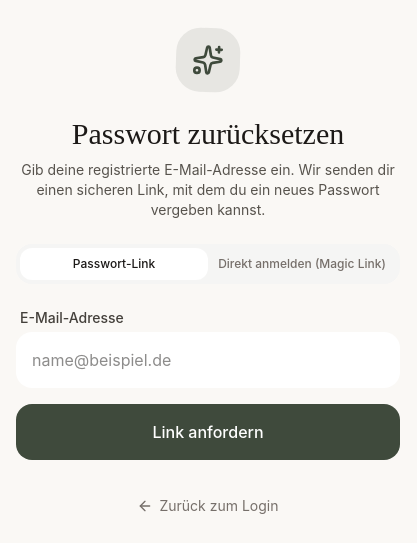
ForgotPasswordForm › shows inline validation error when submitting with empty email
Click the button "Link anfordern": coordinates (208, 432) [16,404,400,460]
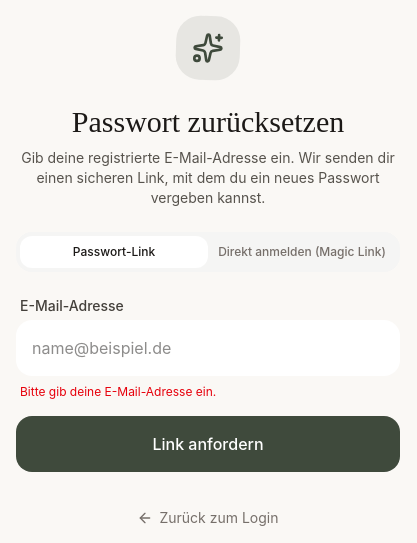
Check: the text "Bitte gib deine E-Mail-Adresse ein." is shown, box [20,384,216,399]
